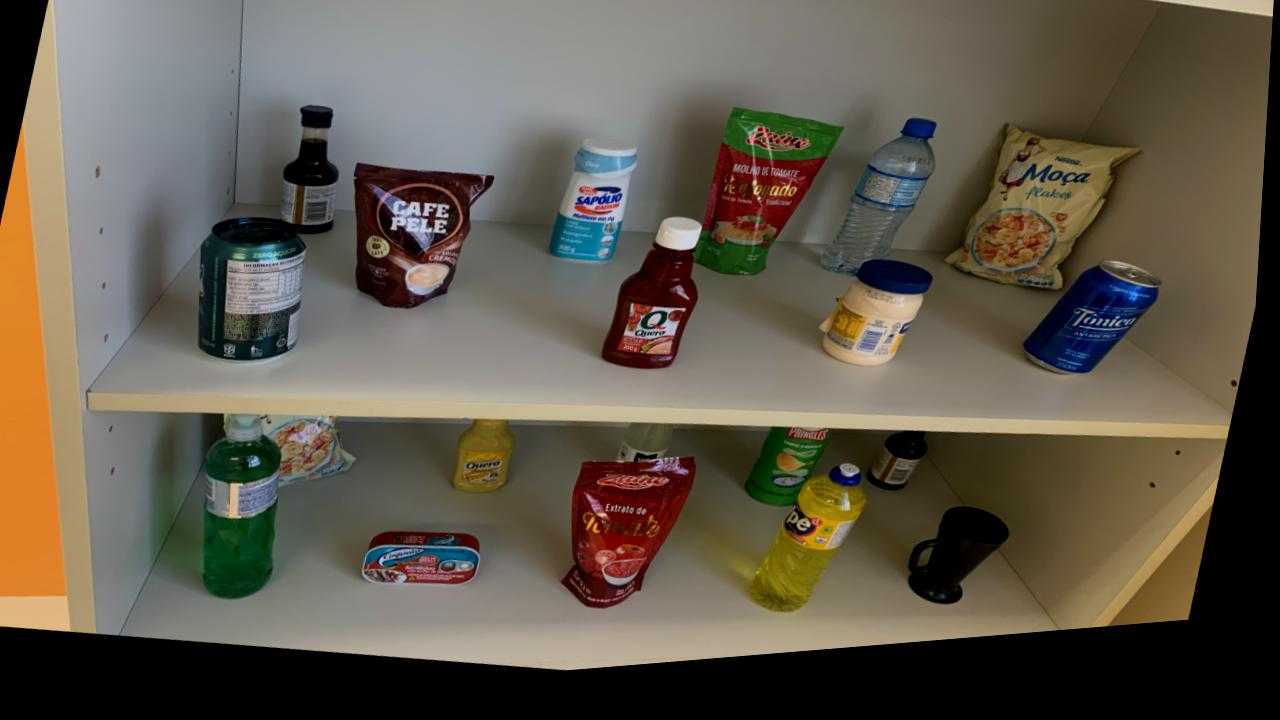Cleaner-Cleanup_Items: (553, 147, 641, 272)
Coffee-Pantry_Items: (356, 168, 497, 316)
Detergent-Cleanup_Items: (758, 480, 874, 627), (760, 478, 874, 626), (209, 417, 287, 603)
English_Sauce-Pantry_Items: (283, 110, 342, 239), (875, 446, 934, 506)
Flakes-Snacks: (949, 142, 1143, 307), (267, 419, 361, 491)
Guarana_Can-Drinks: (202, 221, 310, 367)
Ketchup-Pantry_Items: (607, 228, 705, 380)
Mayonnaise-Pantry_Items: (826, 274, 938, 381)
Mustard-Pantry_Items: (458, 426, 522, 501)
Pringles-Snacks: (751, 441, 837, 520)
Soda-Drinks: (622, 433, 679, 473)
Tomato_Sauce-Pantry_Items: (698, 120, 846, 288), (570, 468, 703, 619)
Tonic-Drinks: (1028, 279, 1166, 393)
Tuna_Can-Pantry_Items: (369, 538, 488, 594)
Water_Bottle-Drinks: (825, 133, 939, 290)
